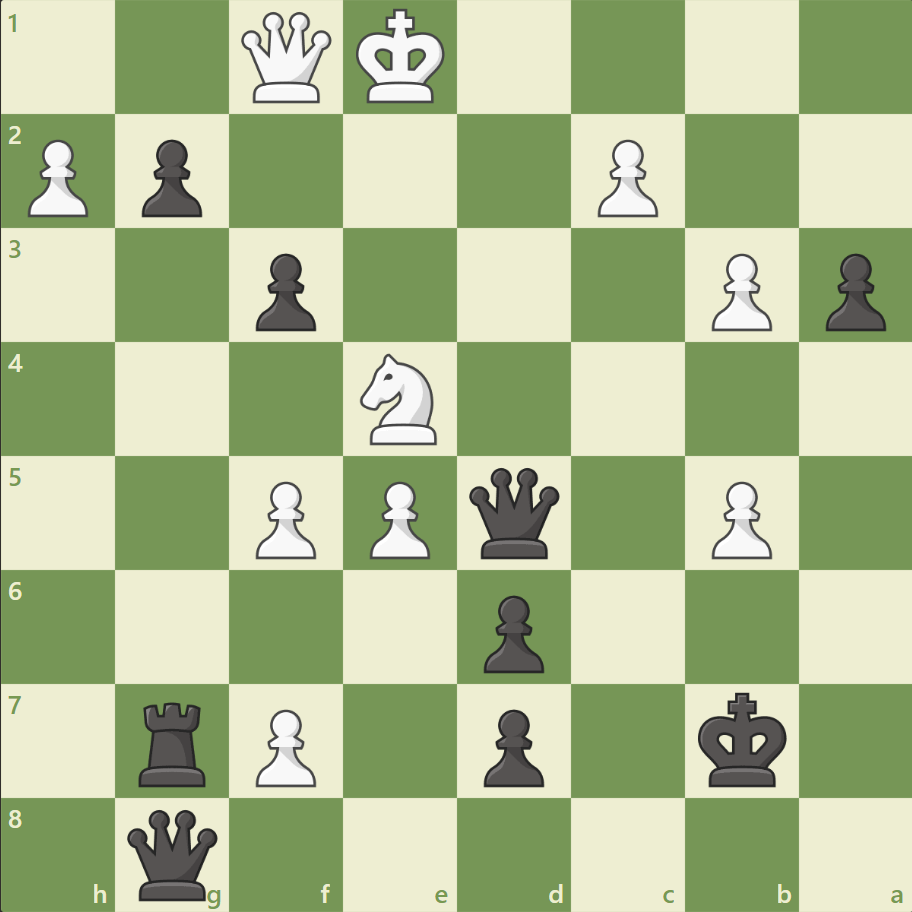K: (351, 4, 451, 112)
N: (351, 348, 449, 450)
P: (247, 700, 322, 791), (701, 473, 776, 564), (247, 473, 322, 564), (701, 246, 776, 337), (20, 132, 95, 223), (361, 473, 435, 564), (588, 132, 662, 223)
Q: (237, 9, 336, 108)
k: (692, 685, 792, 793)
p: (474, 700, 549, 791), (474, 586, 549, 677), (247, 246, 322, 337), (133, 132, 208, 223), (815, 246, 889, 337)
q: (124, 804, 223, 903), (464, 463, 563, 562)
r: (133, 693, 215, 790)
